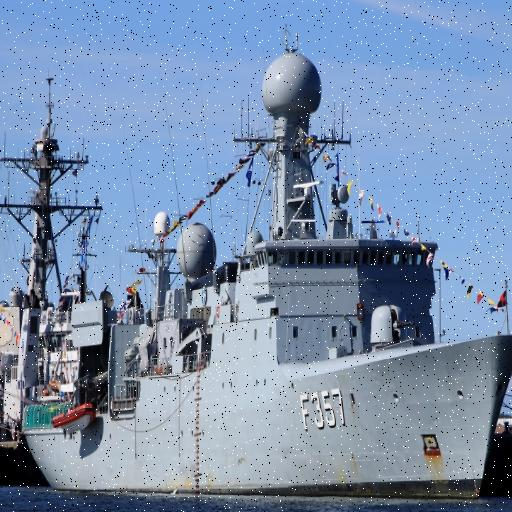Fragata: (15, 34, 512, 507)
